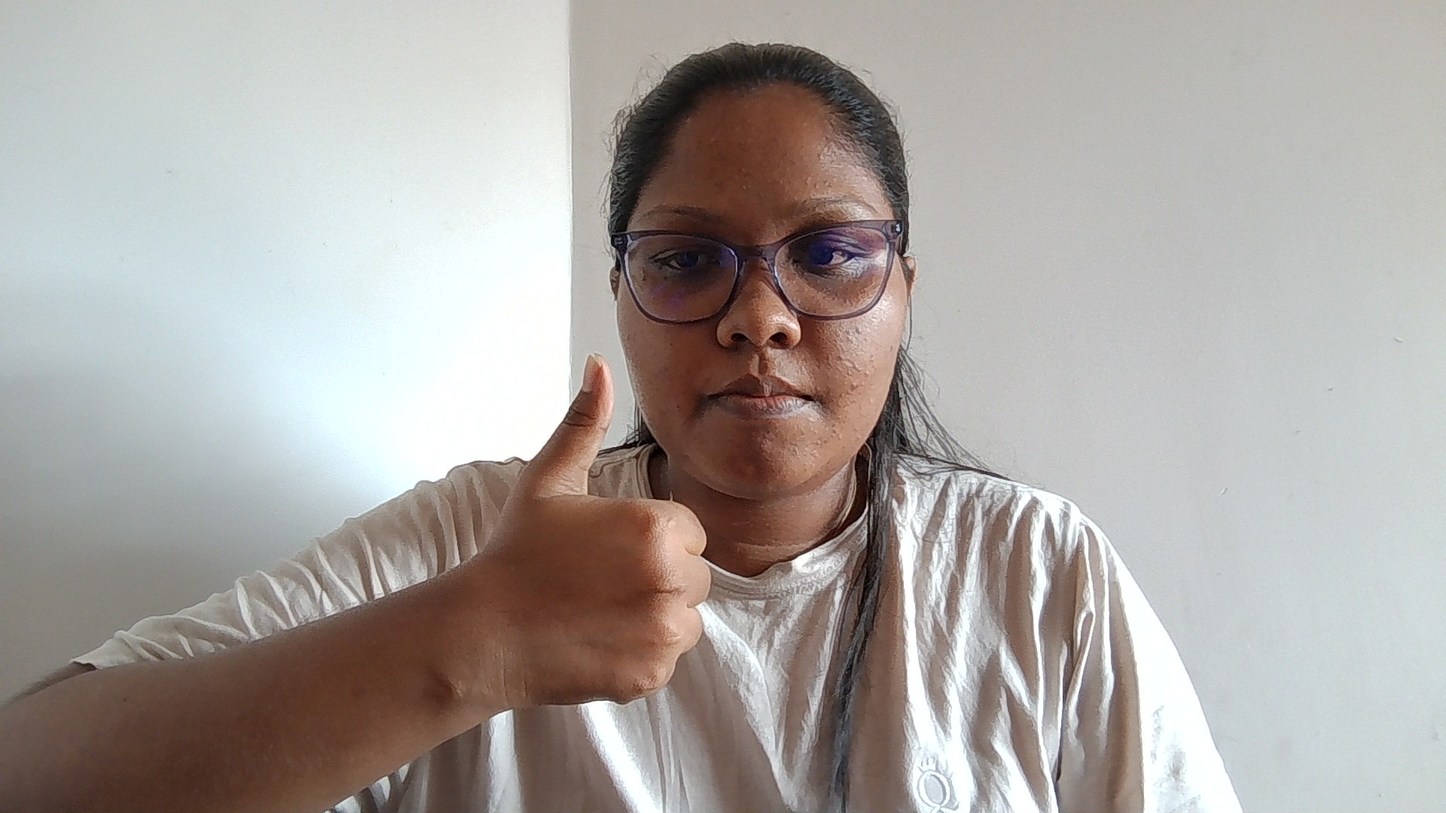Thumbs Up: (333, 250, 731, 760)
